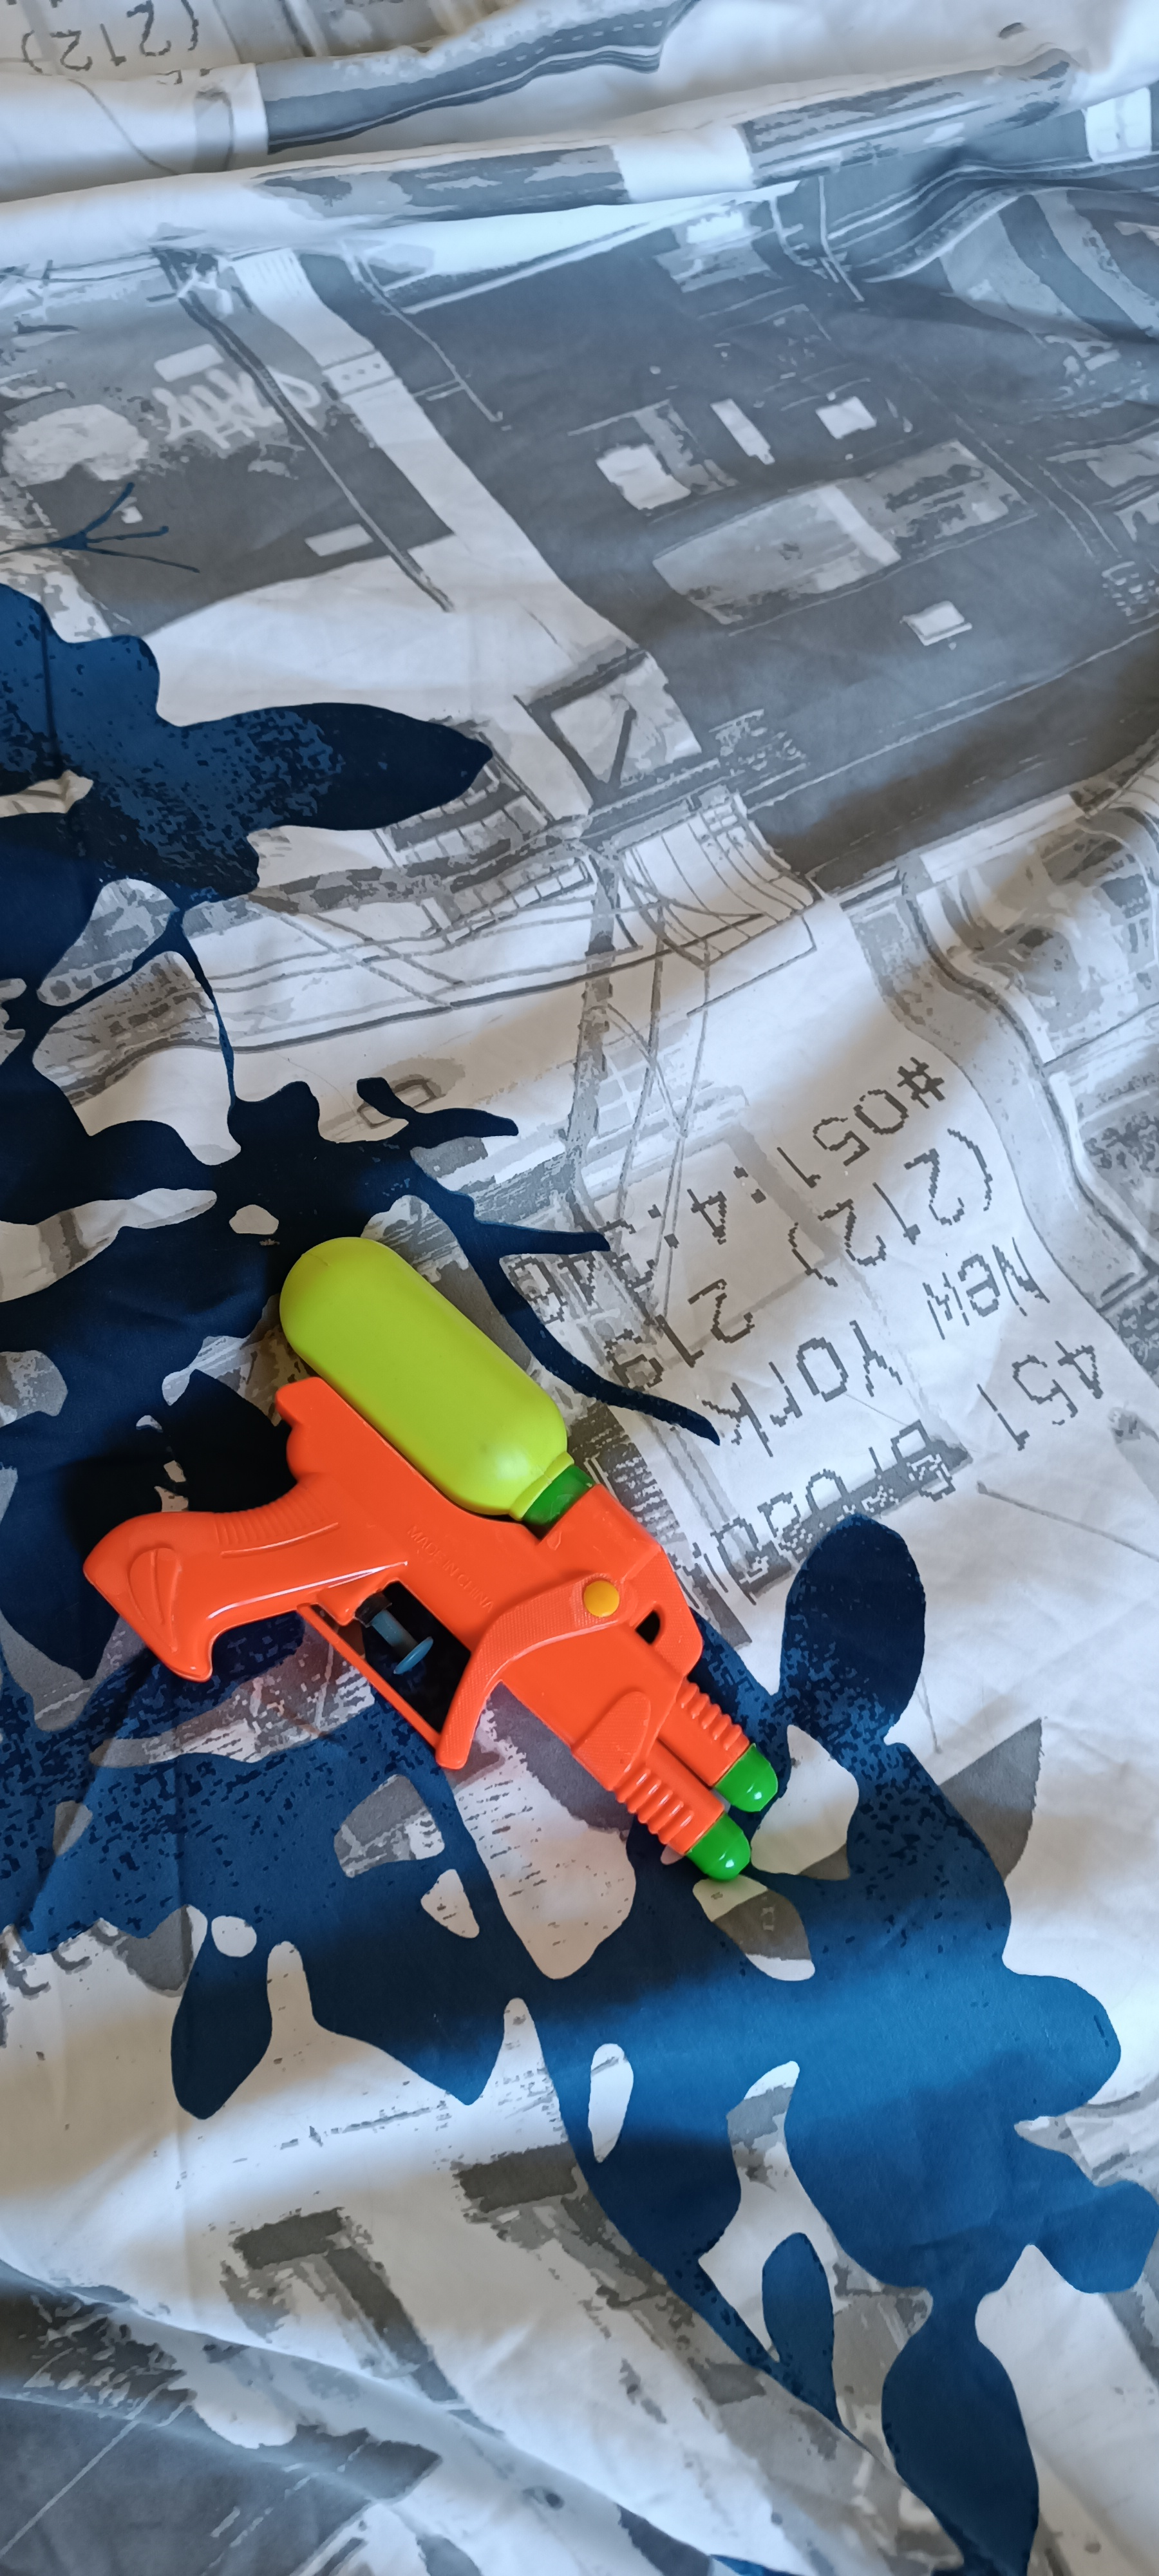Water Gun: (82, 1234, 778, 1879)
